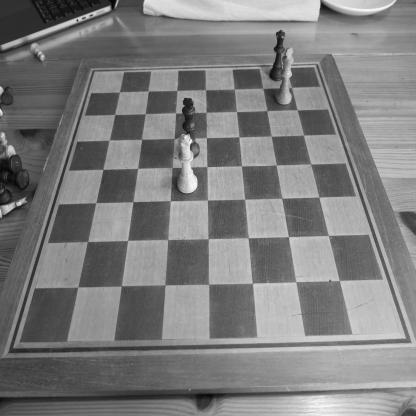black-king: (182, 97, 200, 159)
black-queen: (269, 29, 286, 82)
white-king: (275, 46, 294, 106)
white-knight: (1, 196, 28, 220)
white-pawn: (29, 42, 46, 62)
white-queen: (177, 133, 198, 195)
